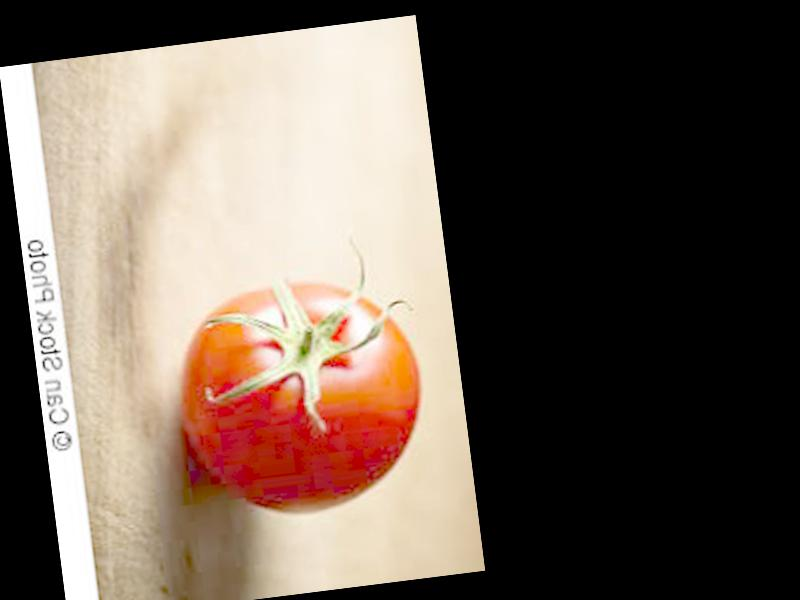Tomato: (168, 266, 431, 525)
